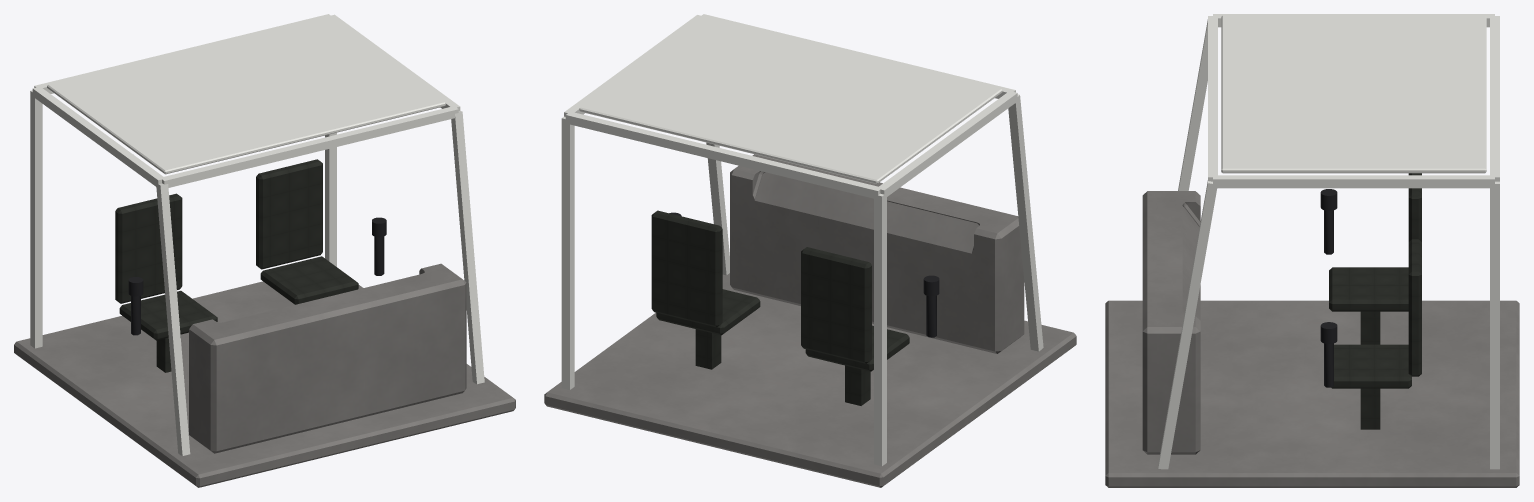
The model's file is ax_rover_03_open_station.glb.
The picture shows the model from 3 angles, left to right: view 1: azimuth 30°, elevation 25°; view 2: azimuth 150°, elevation 25°; view 3: azimuth 270°, elevation 25°; orthographic projection. The views are drawn at different scales.
Parts seen in each view (by area): view 1: console, sunshade_radiator, deck_plate, roll_cage, seat_2, seat_1, hand_controller_2, hand_controller_1; view 2: deck_plate, sunshade_radiator, console, roll_cage, seat_2, seat_1, hand_controller_1; view 3: deck_plate, sunshade_radiator, roll_cage, console, seat_2, seat_1, hand_controller_2, hand_controller_1.
Part boxes in pixels (x1,y1,x2,y2): console: [189, 263, 466, 453]; sunshade_radiator: [47, 16, 445, 174]; deck_plate: [14, 281, 515, 487]; roll_cage: [30, 14, 484, 455]; seat_2: [256, 159, 358, 304]; seat_1: [115, 193, 217, 372]; hand_controller_2: [372, 217, 386, 275]; hand_controller_1: [128, 277, 143, 335]; deck_plate: [544, 273, 1076, 487]; sunshade_radiator: [579, 17, 1002, 183]; console: [730, 154, 1024, 353]; roll_cage: [561, 14, 1043, 466]; seat_2: [651, 210, 760, 369]; seat_1: [801, 247, 909, 405]; hand_controller_1: [923, 275, 939, 337]; deck_plate: [1105, 300, 1519, 487]; sunshade_radiator: [1221, 15, 1486, 173]; roll_cage: [1158, 14, 1499, 469]; console: [1142, 191, 1200, 454]; seat_2: [1331, 239, 1421, 429]; seat_1: [1329, 173, 1421, 344]; hand_controller_2: [1320, 322, 1337, 387]; hand_controller_1: [1320, 189, 1337, 254].
Bounding box in the file's own units: 2.5 × 2.12 × 2.5.
Materials: 4 (2 with a texture image).
